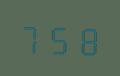eight: (73, 20, 99, 57)
five: (46, 19, 72, 56)
seven: (18, 18, 44, 55)
